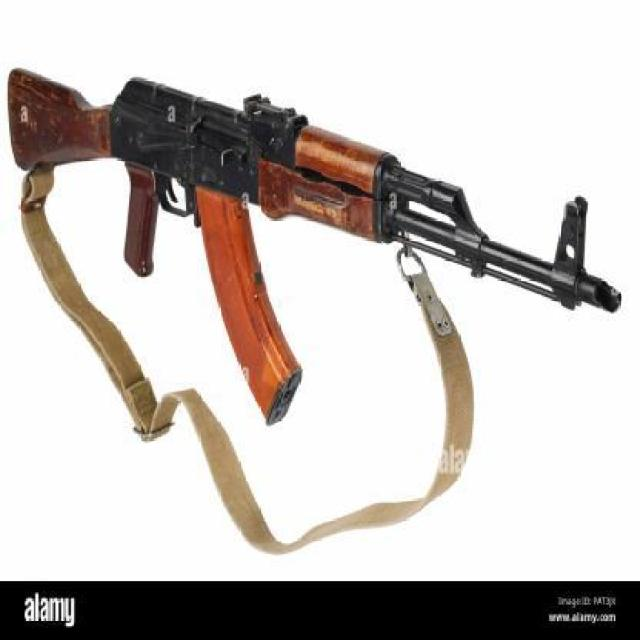weapon: (5, 31, 623, 434)
